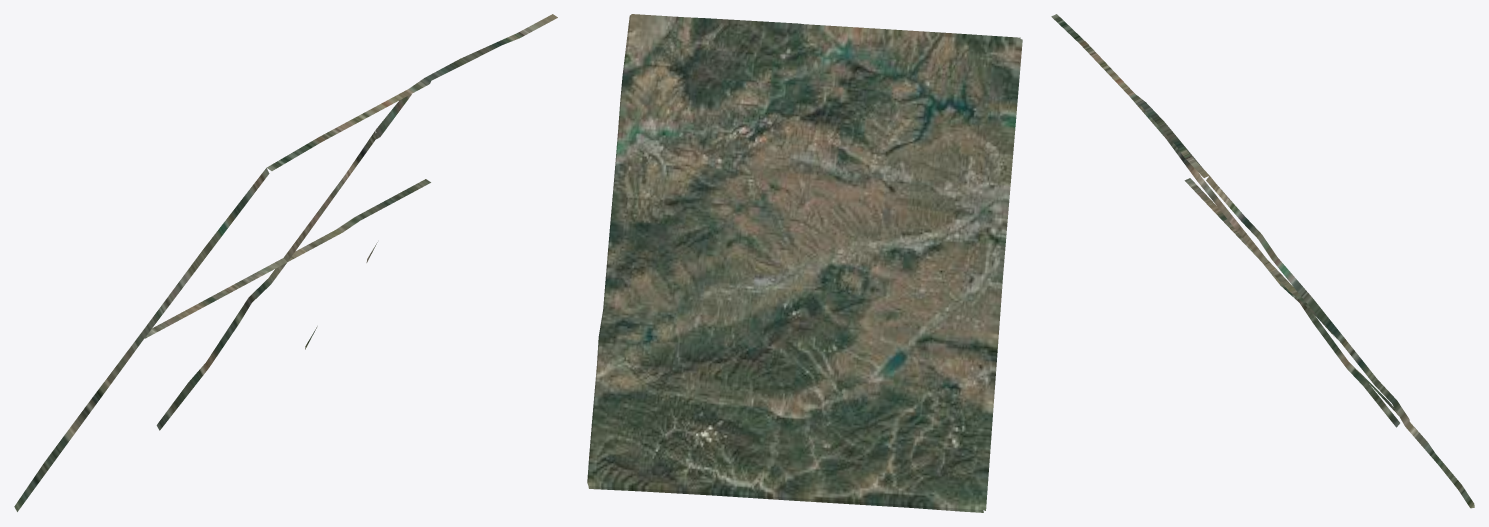
3 views of the same model, side by side, from view 1: azimuth 30°, elevation 25°; view 2: azimuth 150°, elevation 25°; view 3: azimuth 270°, elevation 25° (orthographic). The views are drawn at different scales.
Size of the model in its own units: 154220 by 131623 by 132425.
1 material, 1 textured.
